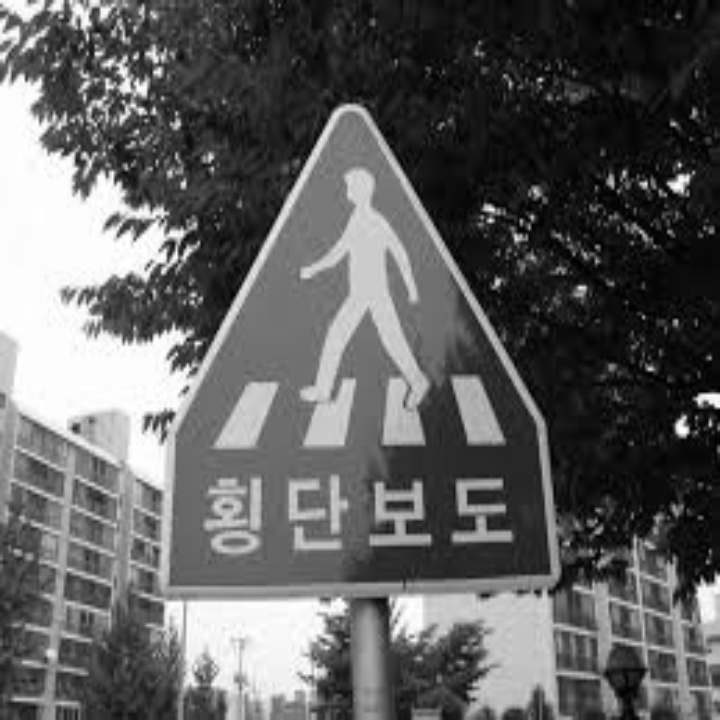cross: (179, 141, 517, 457)
